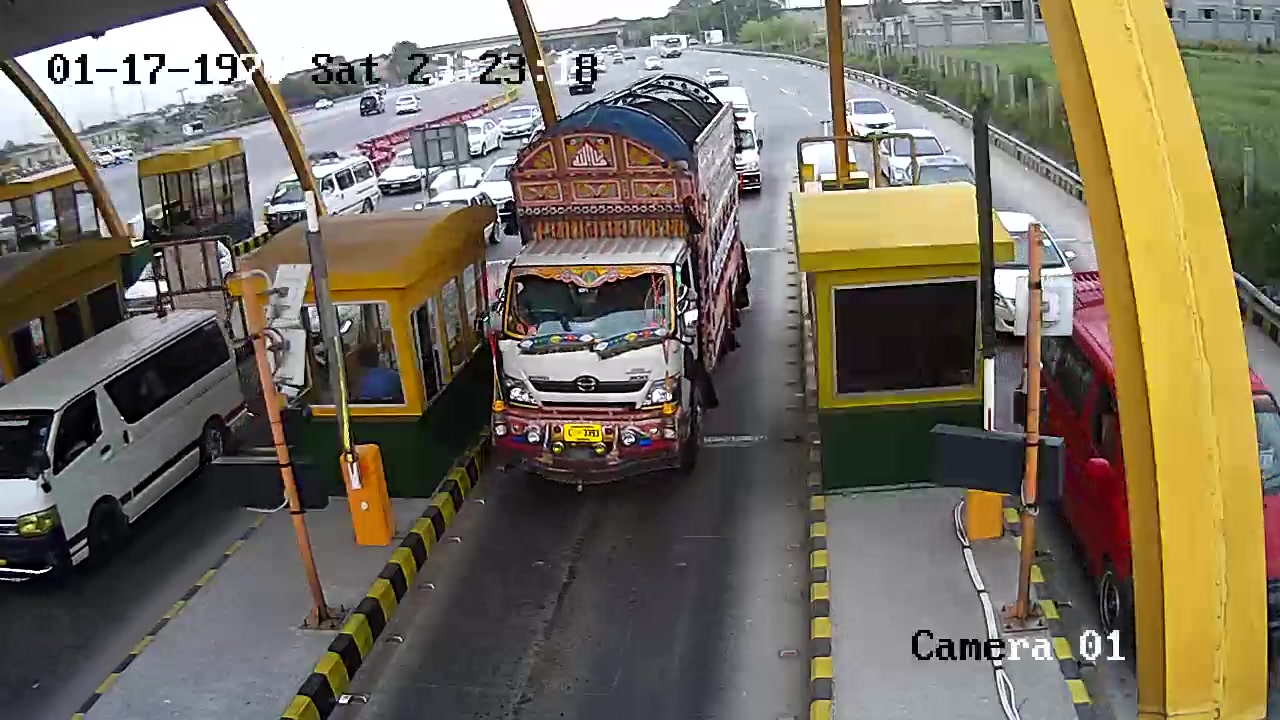F5: (478, 77, 752, 482)
